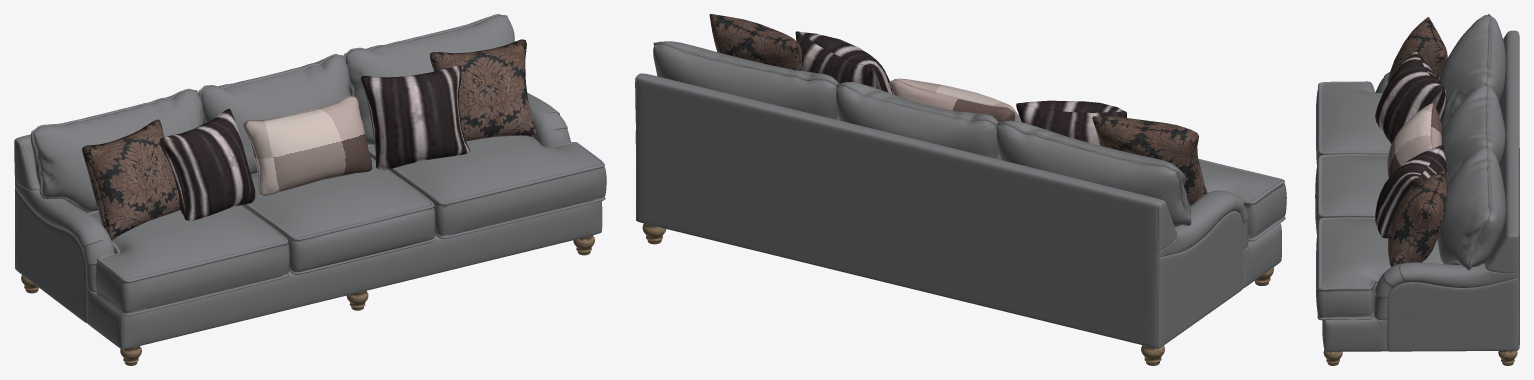
The model's file is sofa-fabric.glb.
The picture shows the model from 3 angles, left to right: view 1: azimuth 30°, elevation 25°; view 2: azimuth 150°, elevation 25°; view 3: azimuth 270°, elevation 25°; orthographic projection. The views are drawn at different scales.
Parts seen in each view (by area): view 1: Object_4, Object_1, Object_2, Object_0, Object_3; view 2: Object_4, Object_2, Object_1, Object_0, Object_3; view 3: Object_4, Object_1, Object_2, Object_0, Object_3.
Part boxes in pixels (x1,y1,x2,y2): Object_4: (14, 14, 606, 349); Object_1: (160, 65, 470, 220); Object_2: (82, 39, 536, 240); Object_0: (243, 96, 372, 196); Object_3: (21, 235, 594, 365); Object_4: (635, 41, 1286, 348); Object_2: (709, 14, 1207, 205); Object_1: (795, 31, 1126, 145); Object_0: (889, 78, 1020, 122); Object_3: (642, 223, 1273, 365); Object_4: (1315, 14, 1519, 351); Object_1: (1375, 50, 1446, 238); Object_2: (1388, 17, 1447, 266); Object_0: (1387, 103, 1442, 177); Object_3: (1323, 350, 1517, 365).
Bounding box in the file's own units: 2.2 × 0.7655 × 0.9124.
5 materials, 4 textured.
